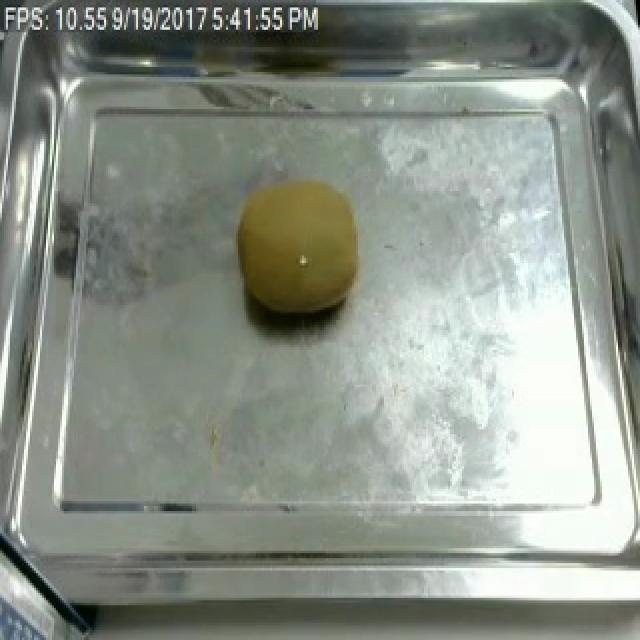Fruit: (230, 166, 370, 323)
